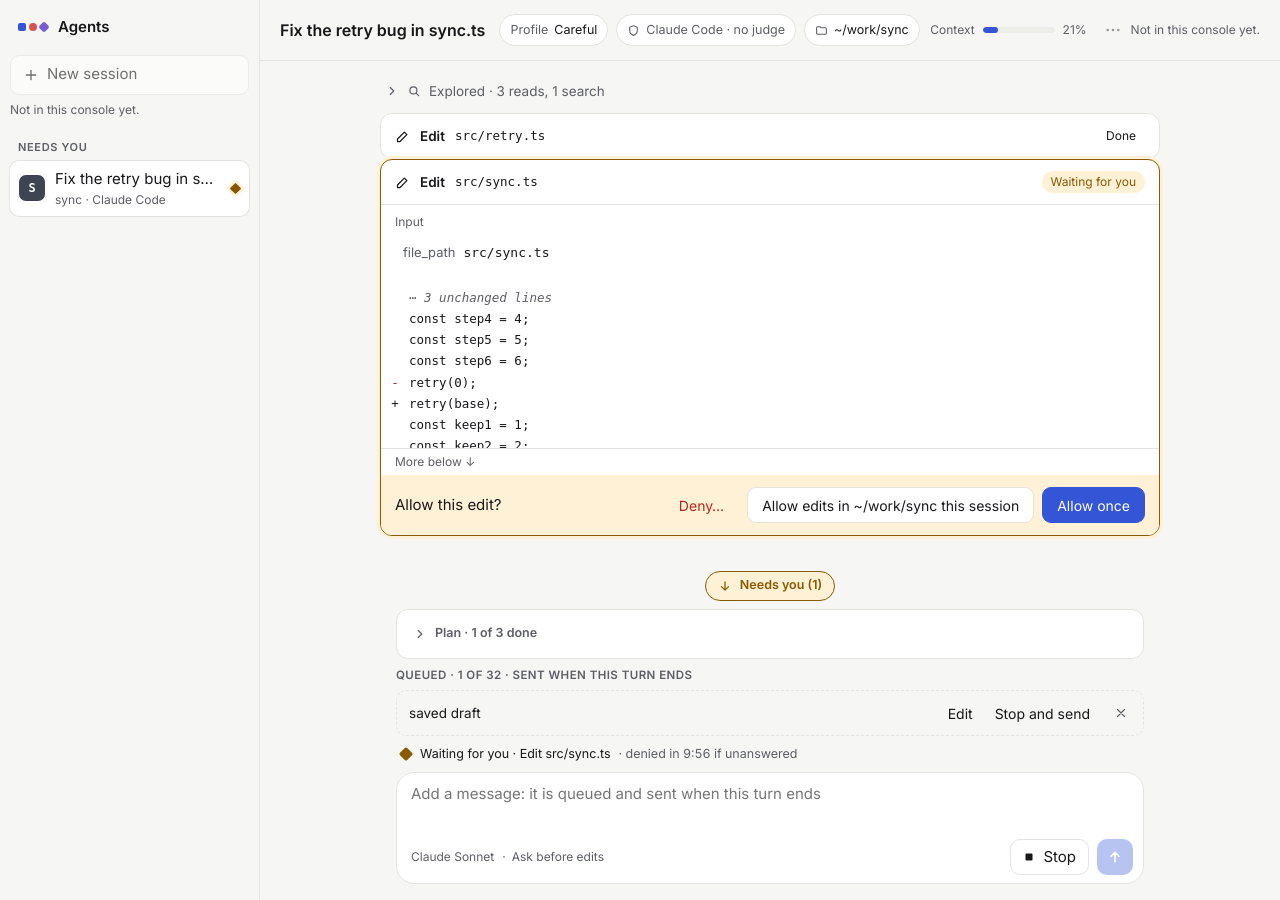
Test: S36-3 › s145_keeps_a_taken_input_if_the_tab_is_replaced_during_unqueue
(page scrolled)
Expected: the button "Needs you (1)" is shown, [705, 571, 835, 601]
Expected: the text "saved draft" is shown, [409, 705, 481, 721]
Click the button with aria-label "Stop and send queued message 1". click: click(1042, 713)
box: [986, 695, 1099, 731]
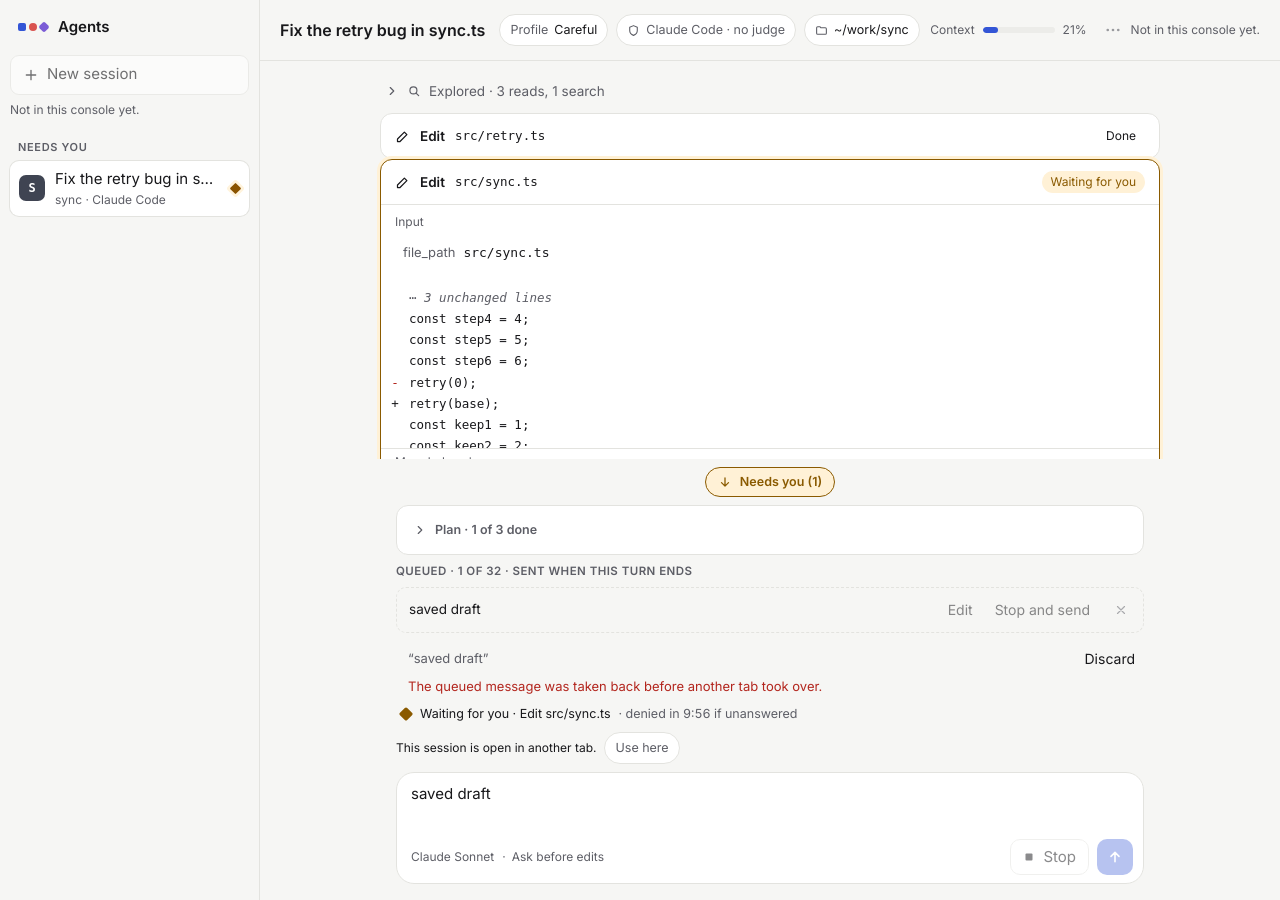
Expected: the message with class "wa-replaced" shows "This session is open in another tab.", [396, 740, 596, 755]
Expected: the 2nd text "saved draft" is shown, [414, 650, 483, 666]
